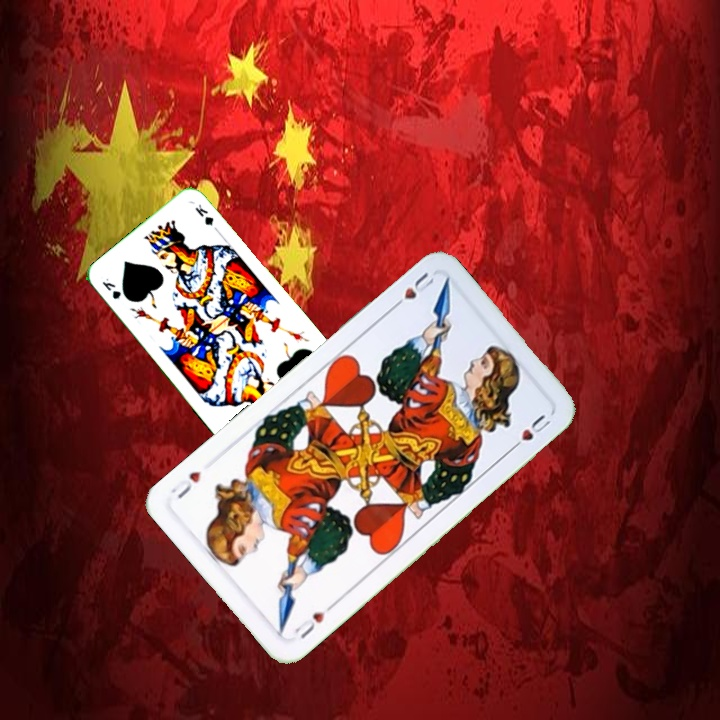GK: (98, 274, 124, 303)
HU: (387, 268, 437, 312), (290, 600, 337, 641)
